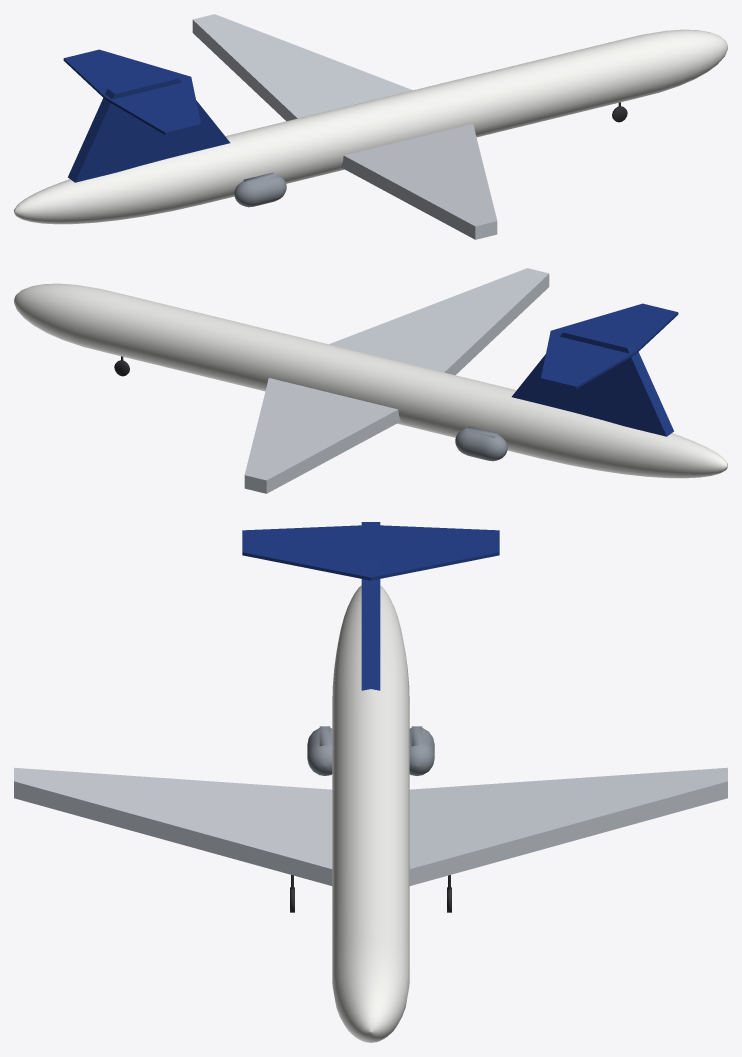
Rendered from crj9.glb.
3 views of the same model, one above another, from view 1: azimuth 30°, elevation 25°; view 2: azimuth 150°, elevation 25°; view 3: azimuth 270°, elevation 25° (orthographic). The views are drawn at different scales.
Visible parts, largest first — view 1: fuselage, wings, tail, engines; view 2: fuselage, wings, tail, engines; view 3: wings, fuselage, tail, engines.
Boxes of the visible parts, <box> form: fuselage: <box>14,29,727,224</box>; wings: <box>192,14,497,239</box>; tail: <box>63,49,230,182</box>; engines: <box>234,172,286,207</box>; fuselage: <box>14,283,727,478</box>; wings: <box>244,268,549,493</box>; tail: <box>511,303,678,436</box>; engines: <box>455,426,507,461</box>; wings: <box>14,767,727,885</box>; fuselage: <box>332,585,409,1042</box>; tail: <box>242,522,499,690</box>; engines: <box>307,726,434,775</box>.
Bounding box in the file's own units: 36.2 × 7.49 × 24.9.
